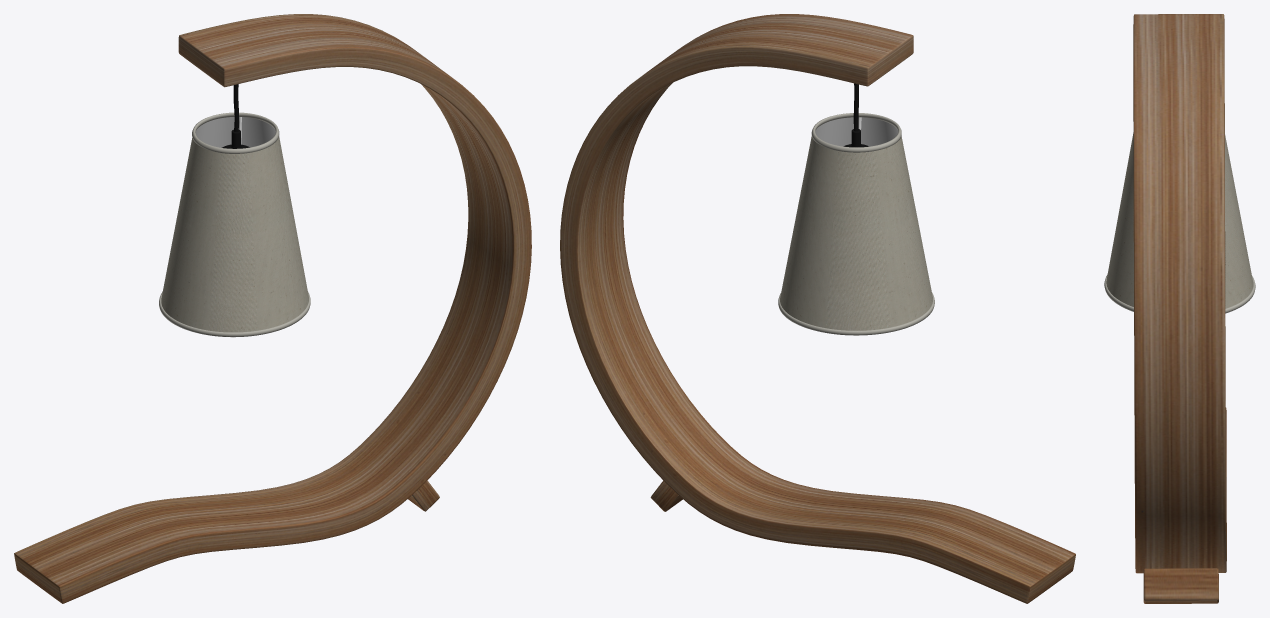
The model's file is the_serpent_-_tret030.glb.
3 renders of one model, left to right at view 1: azimuth 30°, elevation 25°; view 2: azimuth 150°, elevation 25°; view 3: azimuth 270°, elevation 25°, orthographic.
Visible parts, largest first — view 1: Tret030_MainBody, Tret030_LampShadeNew002, Tret030_Border, Tret030_LampShadeInterior002; view 2: Tret030_MainBody, Tret030_LampShadeNew002, Tret030_Border, Tret030_LampShadeInterior002; view 3: Tret030_MainBody, Tret030_LampShadeNew002, Tret030_Base_A_24_ZebranoVeneer_0, Tret030_Border.
Part boxes in pixels (x1,y1,x2,y2): Tret030_MainBody: (14, 14, 531, 603); Tret030_LampShadeNew002: (161, 136, 308, 332); Tret030_Border: (159, 112, 310, 337); Tret030_LampShadeInterior002: (195, 117, 275, 147); Tret030_MainBody: (560, 14, 1075, 603); Tret030_LampShadeNew002: (780, 135, 932, 330); Tret030_Border: (778, 113, 934, 335); Tret030_LampShadeInterior002: (815, 117, 898, 146); Tret030_MainBody: (1133, 14, 1226, 573); Tret030_LampShadeNew002: (1106, 132, 1253, 308); Tret030_Base_A_24_ZebranoVeneer_0: (1143, 568, 1218, 603); Tret030_Border: (1104, 274, 1255, 313).
Size of the model in its own units: 0.5003 by 0.5038 by 0.1407.
12 materials, 2 textured.
